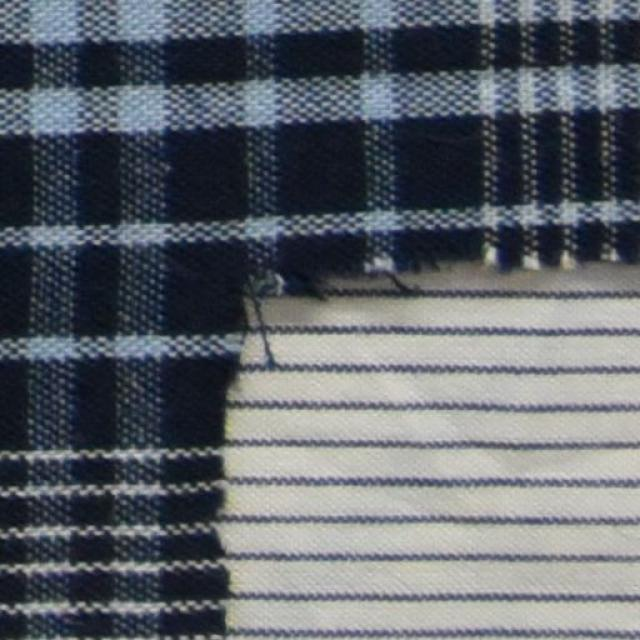Hole: (209, 254, 639, 639)
